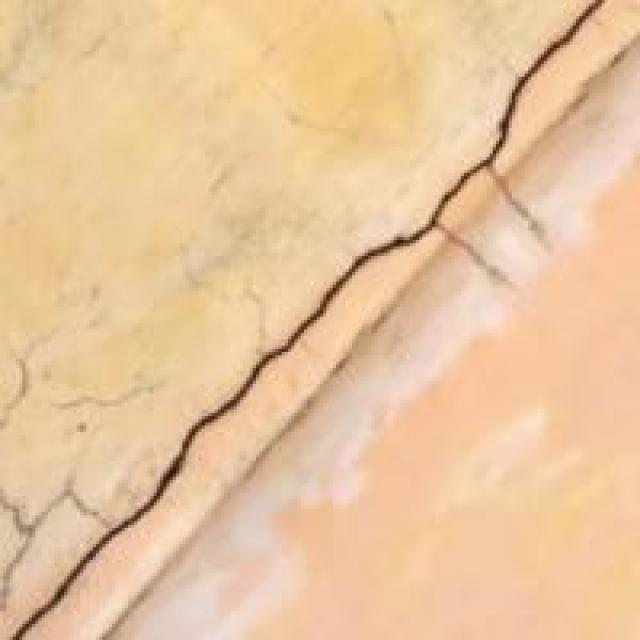crack: (4, 0, 598, 637)
